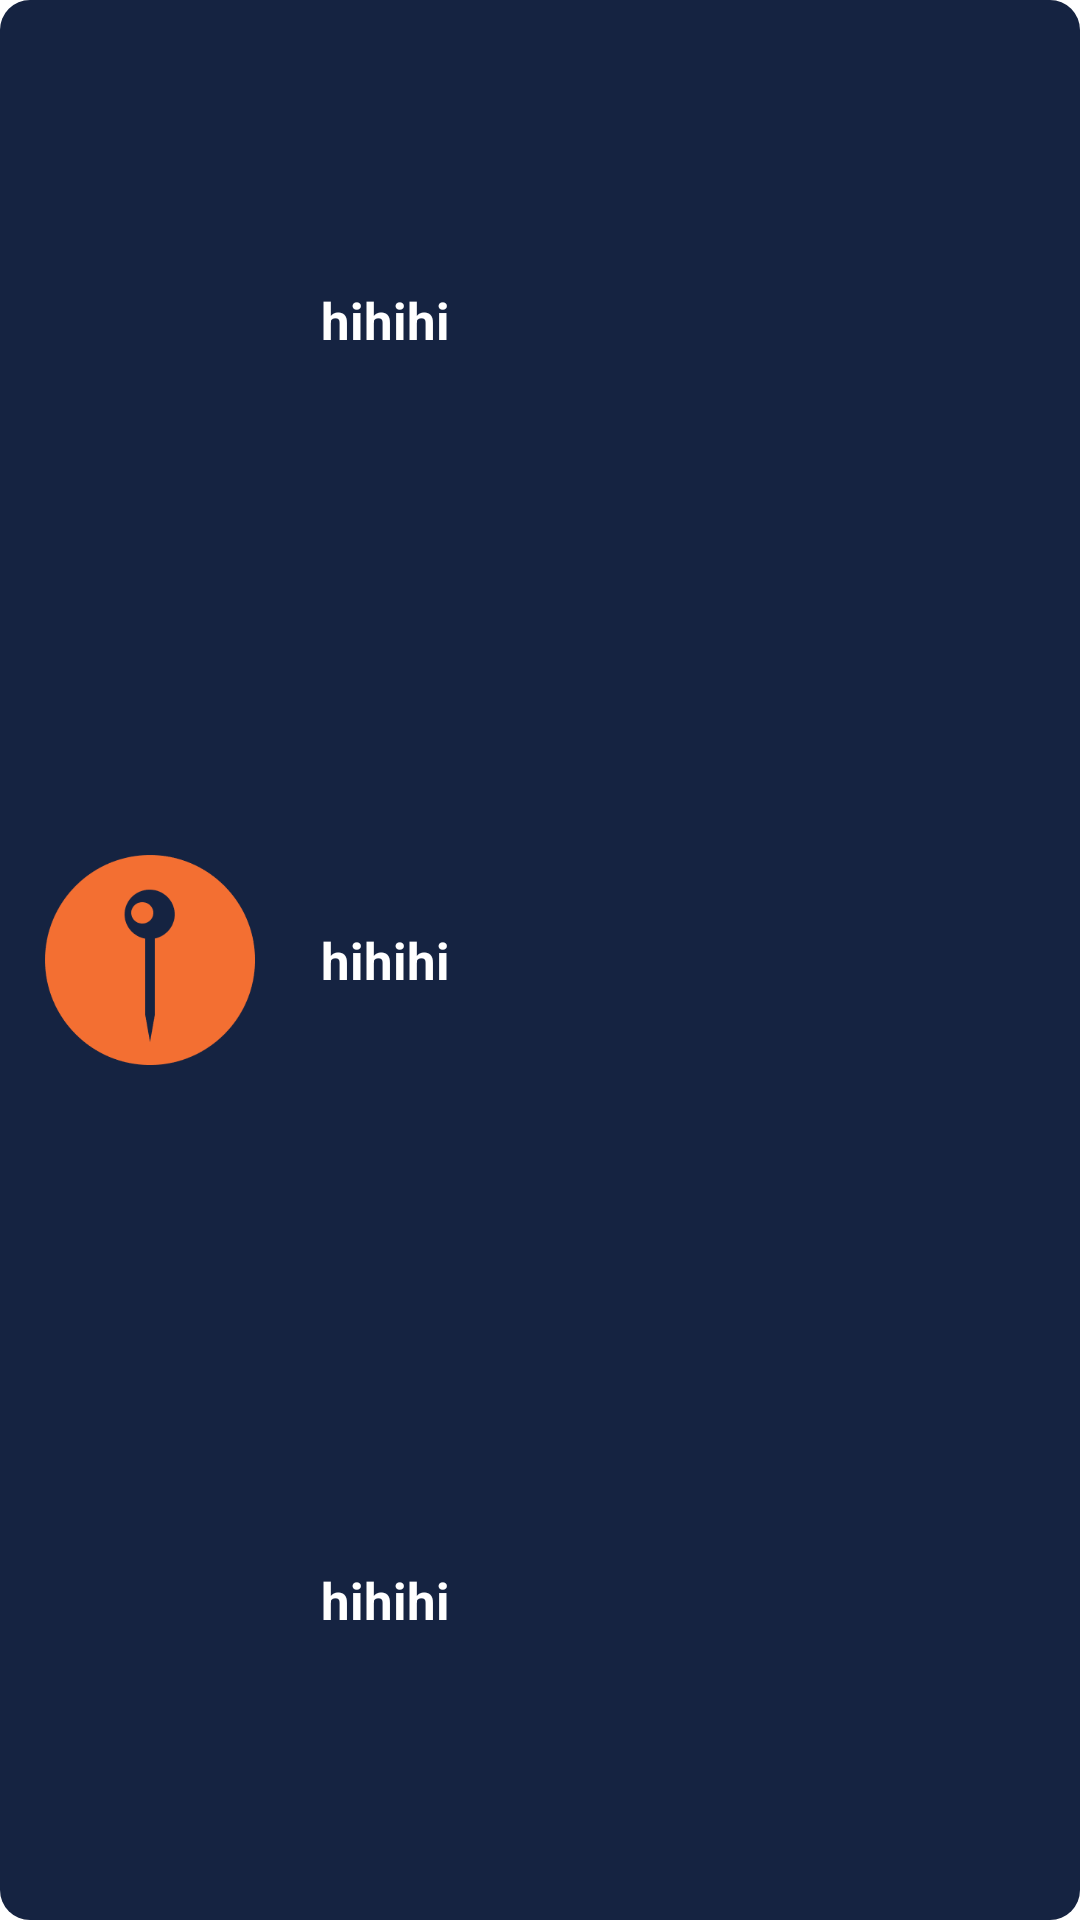

Screen size 1080w x 1920h. Icon name, then its box in pixels as {"left": x1, "top": y1, "right": x2, "bottom": y2}:
pin: {"left": 45, "top": 855, "right": 255, "bottom": 1065}
